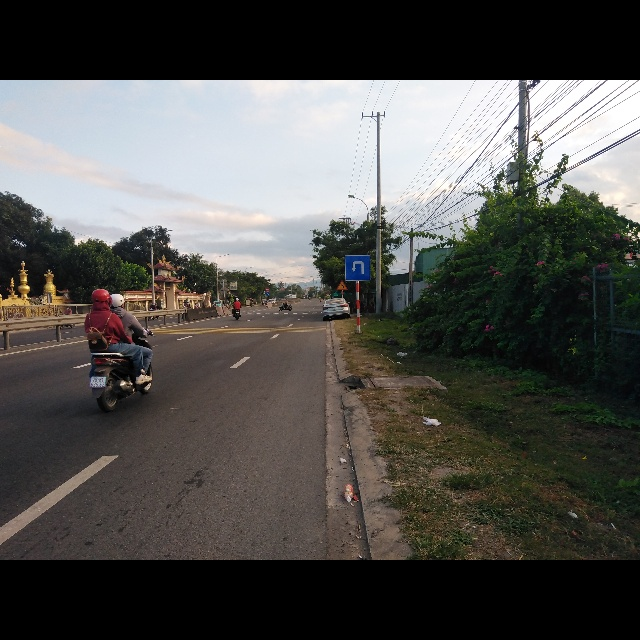Khu vực quay đầu xe: (344, 254, 371, 283)
